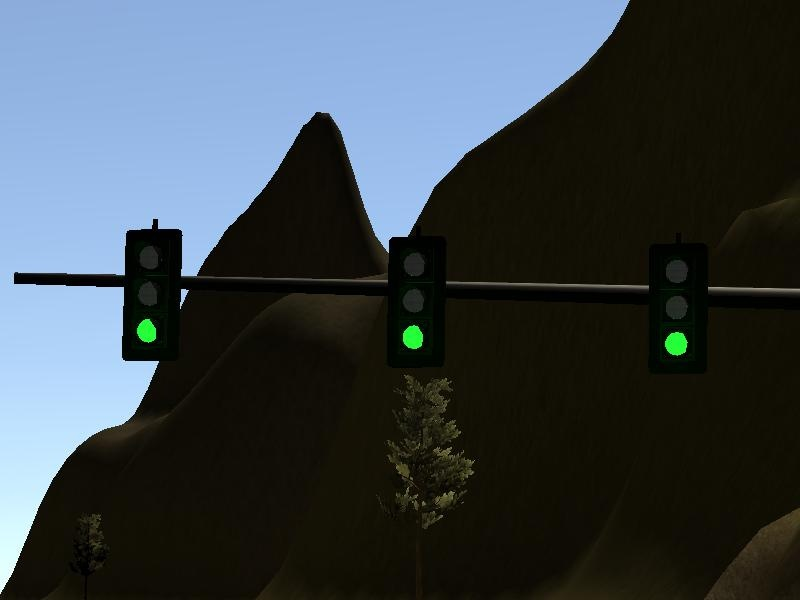green: (107, 216, 185, 374), (382, 226, 450, 378), (642, 232, 711, 377)
